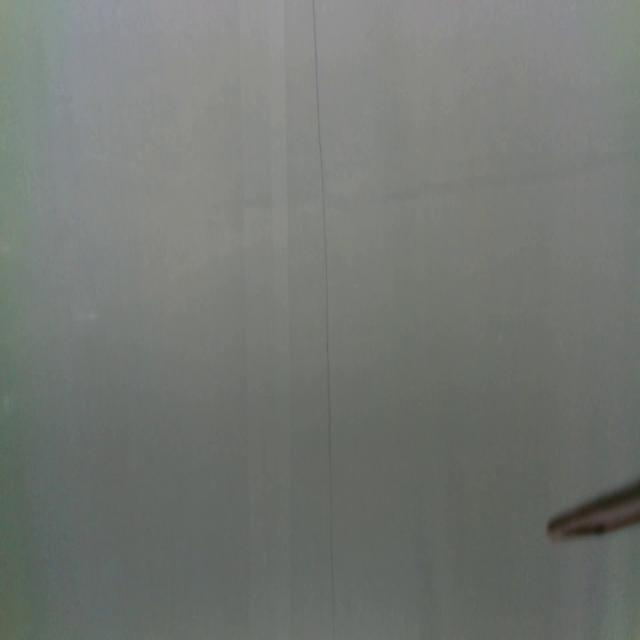color bleeding: (0, 143, 639, 213)
crease: (237, 1, 292, 640), (312, 0, 336, 640)
